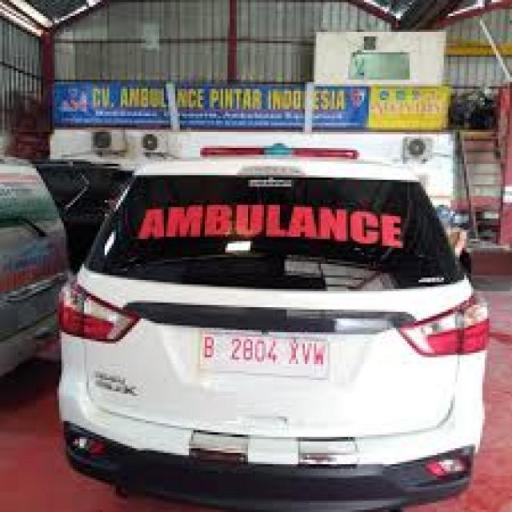Police car: (59, 146, 490, 510)
